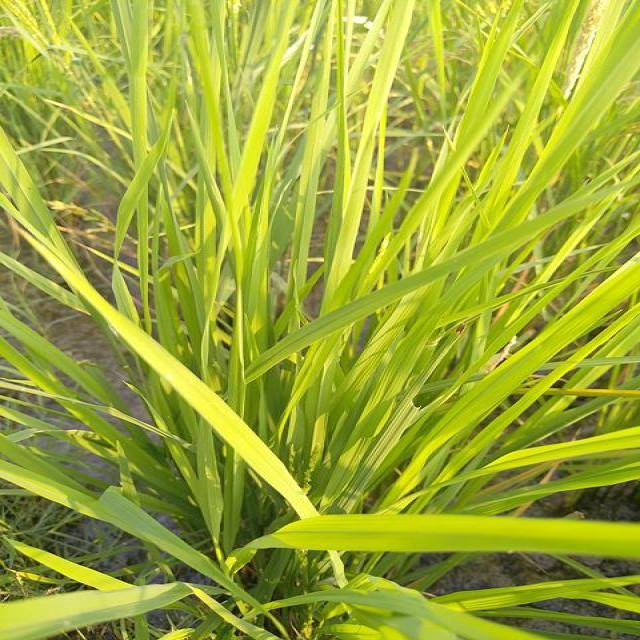Rice: (384, 254, 640, 513), (492, 2, 640, 232), (324, 0, 427, 305), (189, 40, 280, 366), (153, 512, 639, 564), (143, 365, 316, 511), (28, 240, 187, 364), (0, 439, 143, 530), (429, 56, 492, 254), (114, 81, 184, 242), (319, 361, 387, 512), (0, 128, 62, 237), (282, 307, 383, 360), (127, 1, 158, 163)
